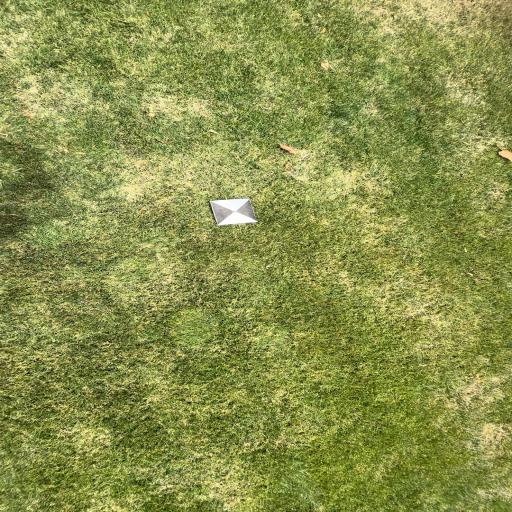target: (211, 198, 258, 224)
